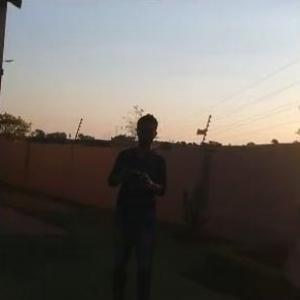follow: (100, 112, 172, 299)
